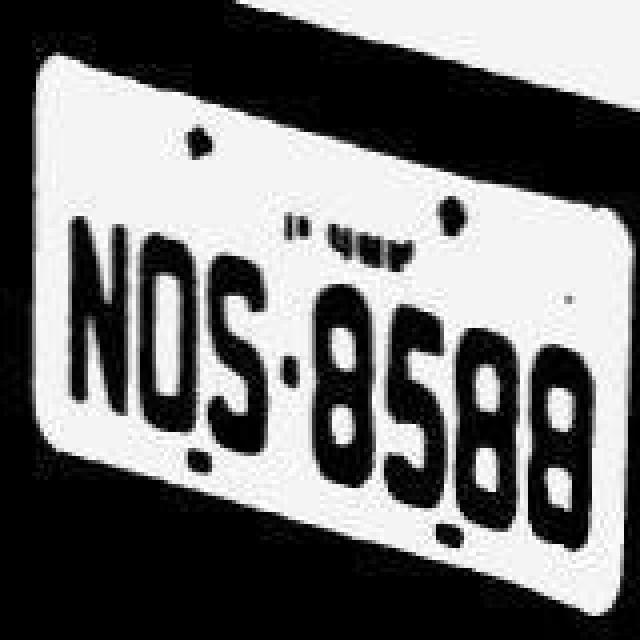5: (372, 298, 448, 518)
8: (526, 322, 598, 574), (450, 284, 522, 532), (298, 276, 378, 492)
N: (58, 176, 138, 432)
O: (126, 196, 198, 444)
S: (198, 246, 270, 458)
